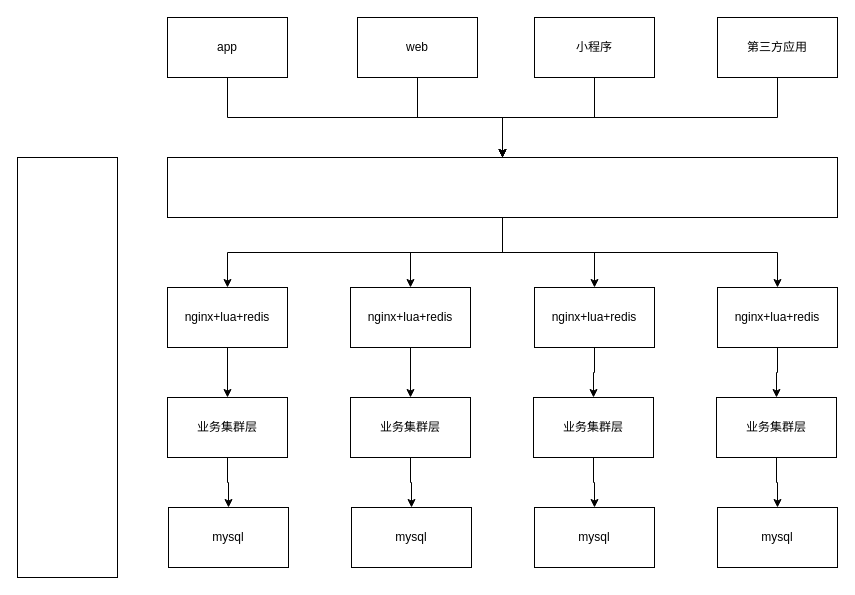
The diagram is 855 pixels wide and 595 high, and some of its shapes have lost their labels. Each missing label, with the box of its shape:
gateway: (166, 156, 838, 218)
链路追踪: (16, 156, 118, 578)
